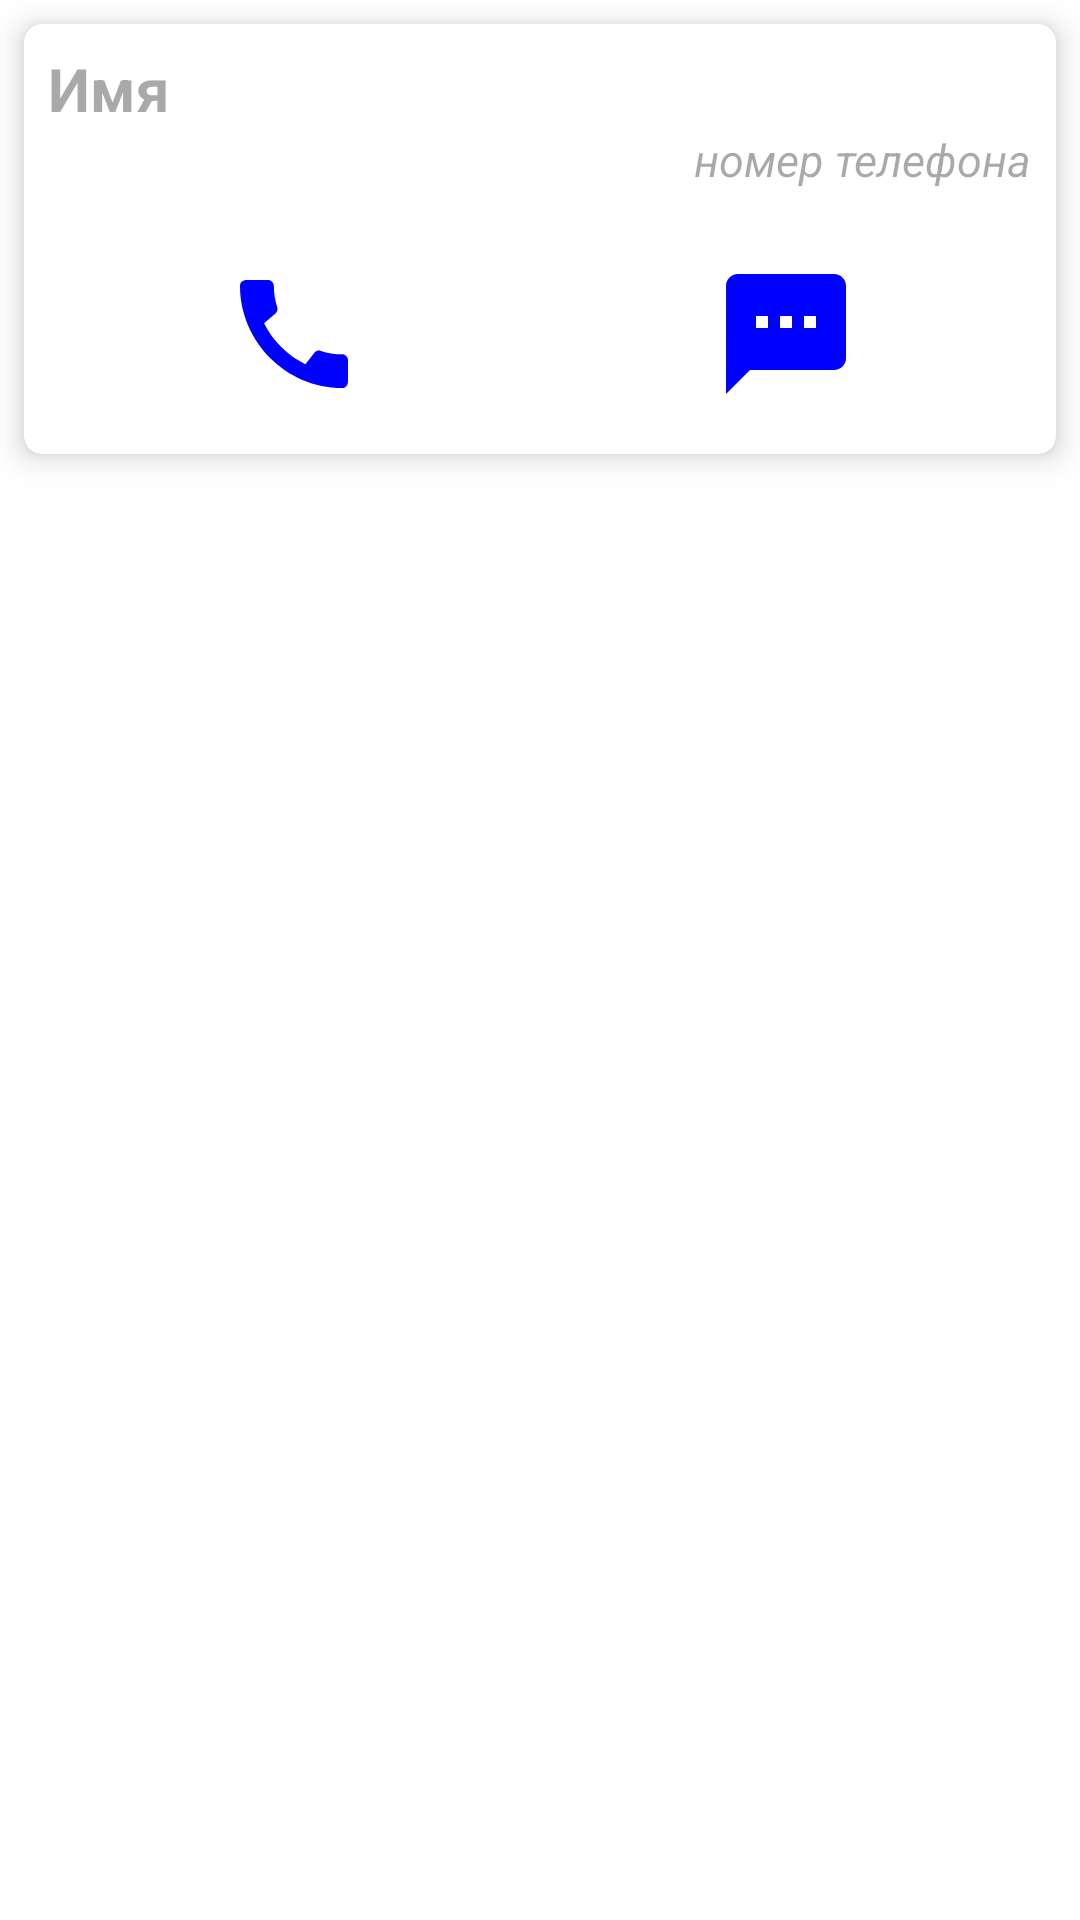

Icons on this 1080w x 1920h Android screen, each with its box as Rect(x1, y1, x2, y2):
call: Rect(240, 280, 348, 388)
